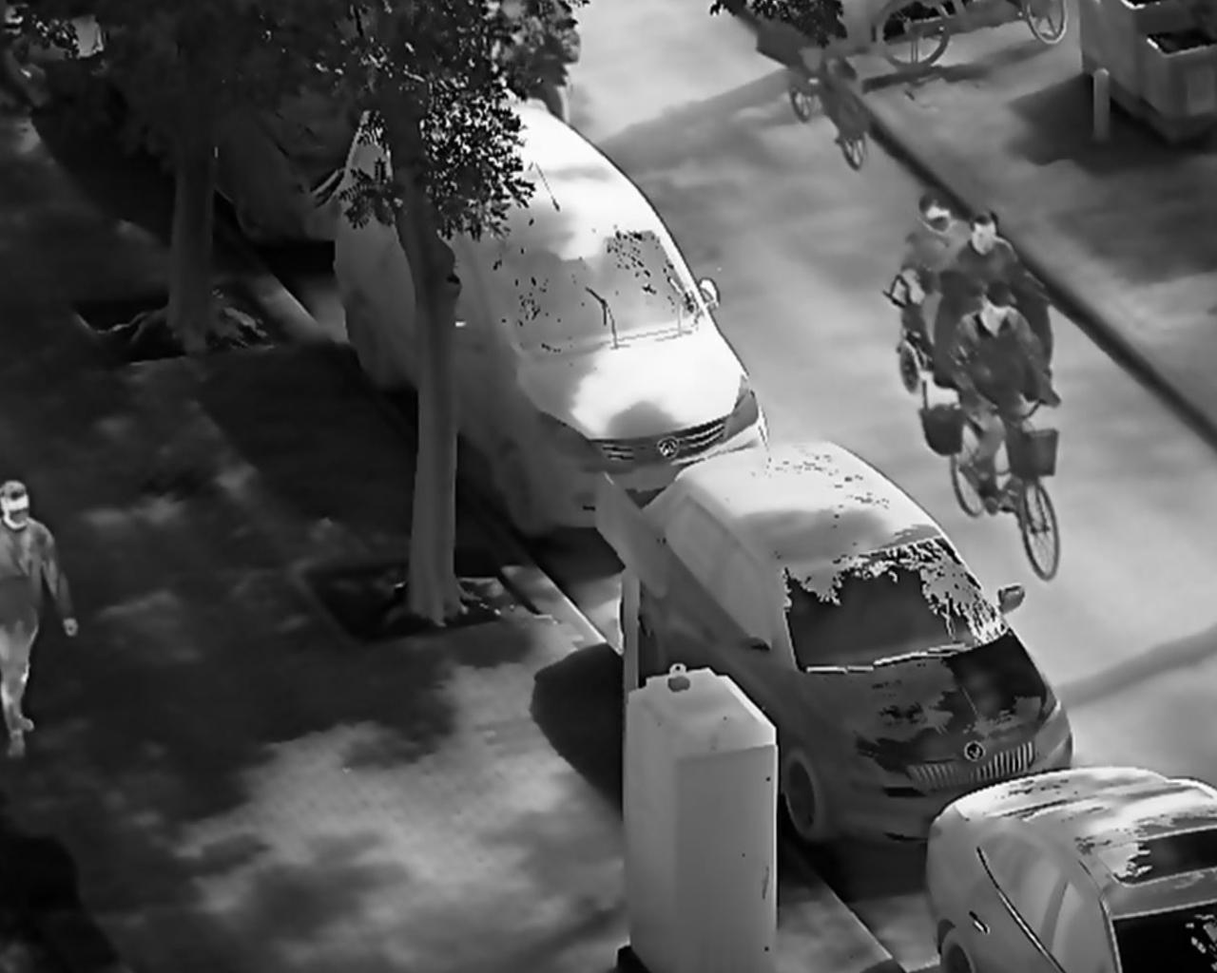person: (936, 281, 1065, 521), (937, 207, 1062, 411), (897, 193, 964, 339)
